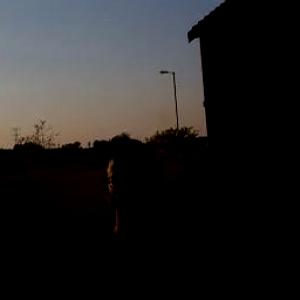follow: (68, 128, 227, 299)
